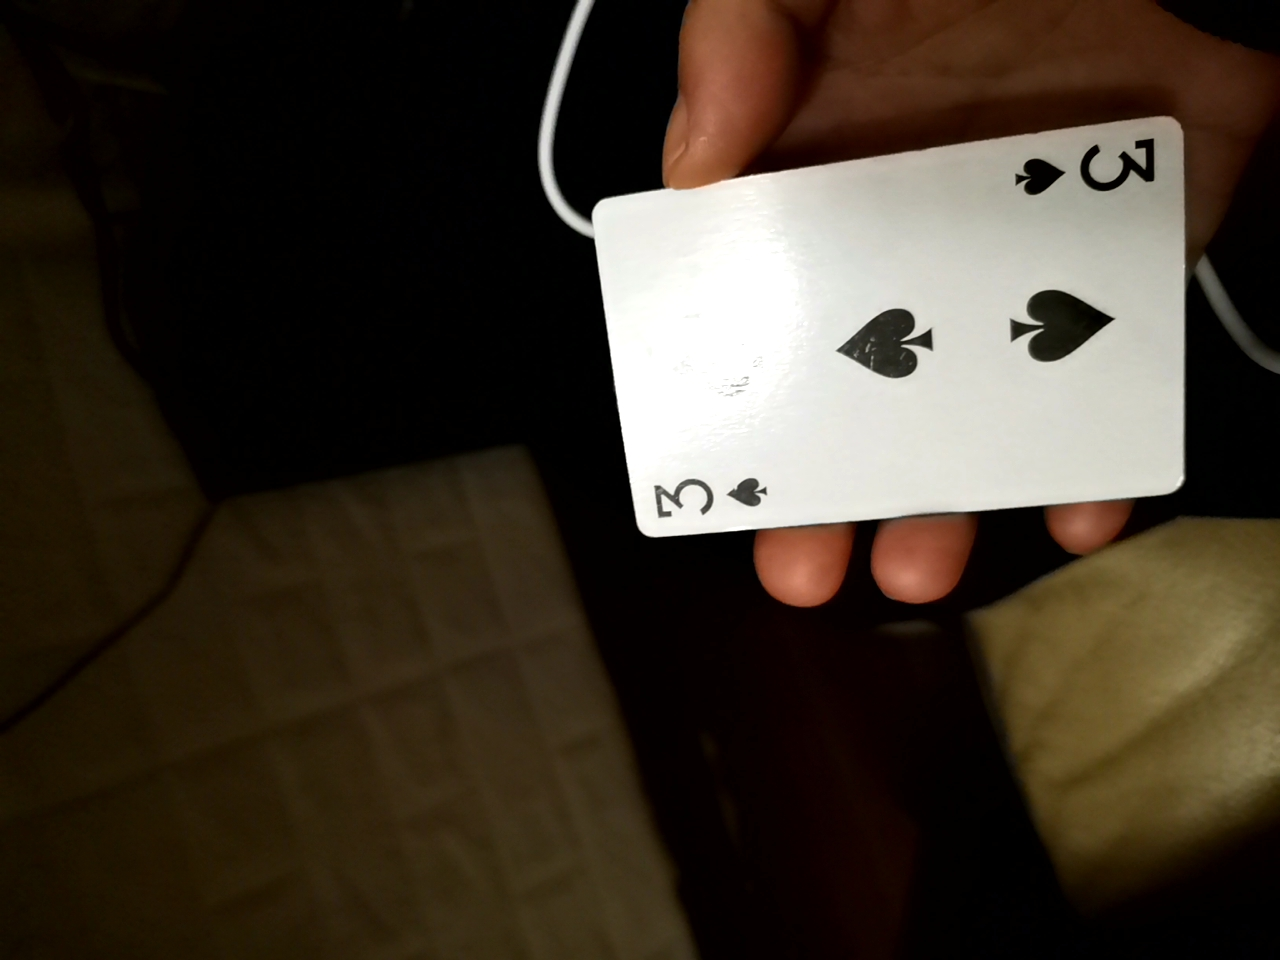ht 3: (592, 102, 1185, 536)
